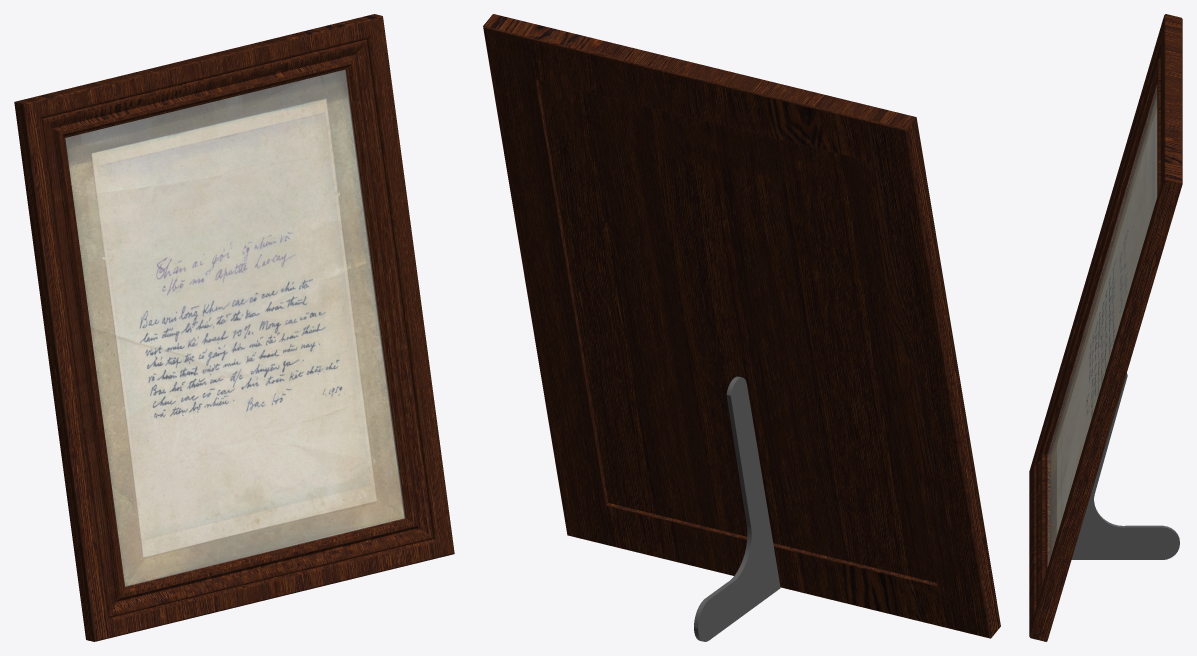
Rendered from thu_bac_ho_gui_cong_nhan.glb.
3 renders of one model, left to right at view 1: azimuth 30°, elevation 25°; view 2: azimuth 150°, elevation 25°; view 3: azimuth 270°, elevation 25°, orthographic. The views are drawn at different scales.
Parts seen in each view (by area): view 1: Mesh3_Glass_0, Mesh1_Model_13_2_1_0, Mesh2_wood_table_0; view 2: Mesh1_wood_table_0, Mesh2_wood_table_0, Mesh4_PDM_Black_plastic_VP_Picture_1_0; view 3: Mesh2_wood_table_0, Mesh3_Glass_0, Mesh1_Model_13_2_1_0, Mesh4_PDM_Black_plastic_VP_Picture_1_0.
Boxes of the visible parts, x1=… form: Mesh3_Glass_0: x1=65, y1=70, x2=405, y2=586; Mesh1_Model_13_2_1_0: x1=65, y1=70, x2=403, y2=585; Mesh2_wood_table_0: x1=14, y1=14, x2=454, y2=641; Mesh1_wood_table_0: x1=538, y1=80, x2=936, y2=582; Mesh2_wood_table_0: x1=483, y1=14, x2=1000, y2=638; Mesh4_PDM_Black_plastic_VP_Picture_1_0: x1=694, y1=376, x2=780, y2=641; Mesh2_wood_table_0: x1=1029, y1=14, x2=1182, y2=641; Mesh3_Glass_0: x1=1048, y1=87, x2=1156, y2=564; Mesh1_Model_13_2_1_0: x1=1051, y1=96, x2=1157, y2=555; Mesh4_PDM_Black_plastic_VP_Picture_1_0: x1=1071, y1=373, x2=1179, y2=559.
Size of the model in its own units: 3 by 3.9 by 1.17.
4 materials, 2 textured.
